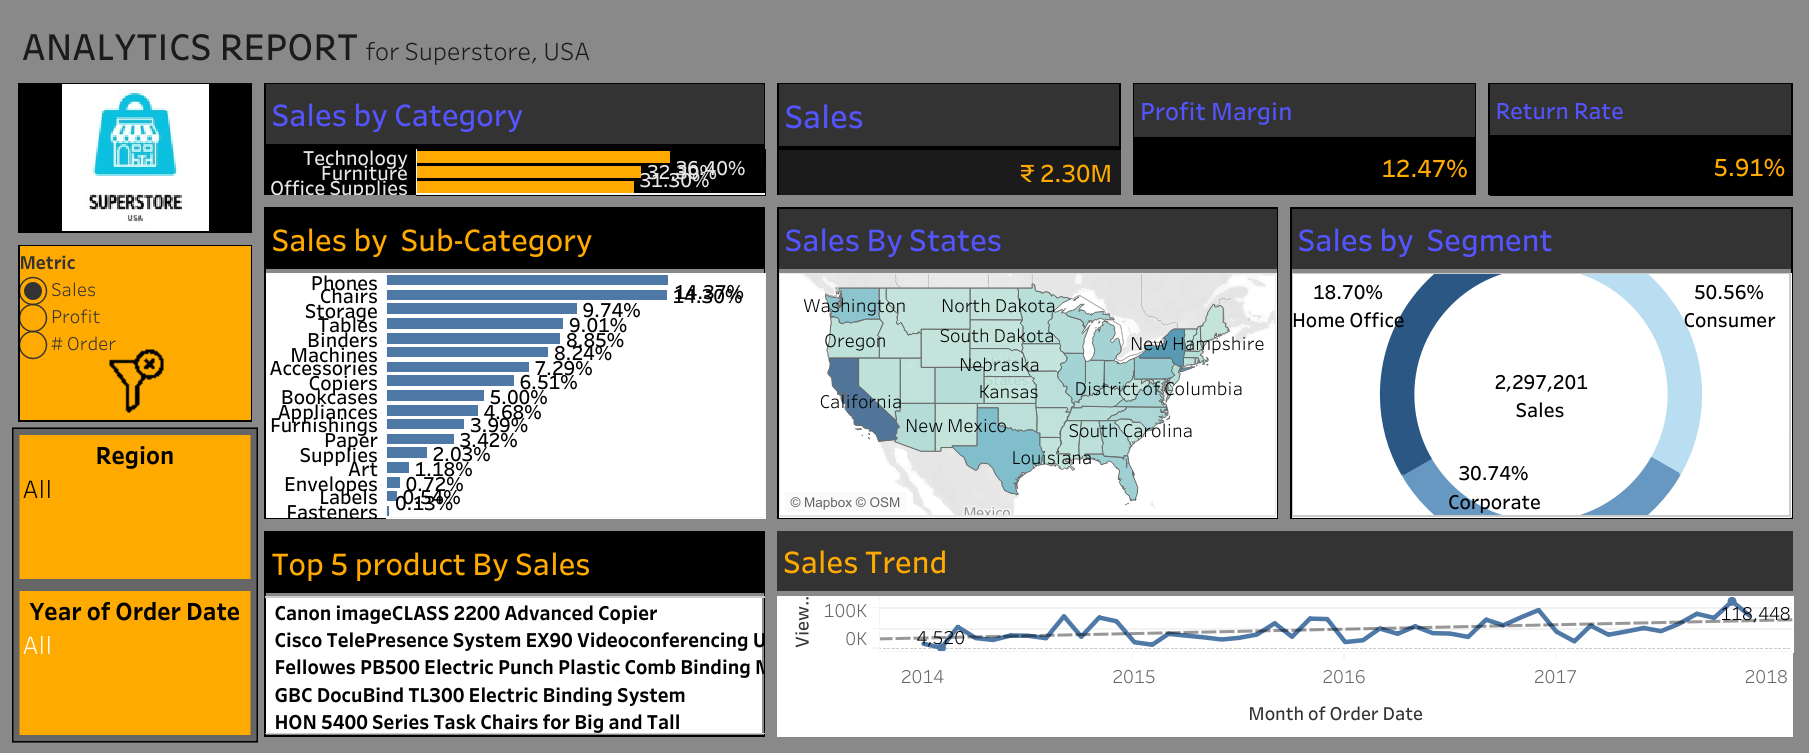

The page's visual inventory and layout, read from the dashboard file:
{"tool":"tableau","page":{"name":"Q7","canvas":[1000,1000],"units":"permille","ordinal":0},"visuals":[{"type":"title","box":[4.2,10.6,991.5,56.7]},{"type":"image","param":"Image/Picture1.jpg","box":[4.2,67.3,136.7,224.9]},{"type":"worksheet","title":"Category","mark":"Automatic","rows":["Category"],"cols":["Calculation_1036390931285385217"],"box":[141,67.3,284.2,171.5]},{"type":"worksheet","title":"Sales","mark":"Automatic","box":[425.2,67.3,197.4,171.5]},{"type":"worksheet","title":"Profit  margin","mark":"Automatic","box":[622.6,67.3,197.9,171.5]},{"type":"worksheet","title":"return rate","mark":"Automatic","box":[820.5,67.3,175.3,171.5]},{"type":"worksheet","title":"sub-Category","mark":"Automatic","rows":["Sub-Category"],"cols":["Calculation_1036390931285385217"],"box":[141,238.7,284.2,450.1]},{"type":"worksheet","title":"Map","mark":"Multipolygon","box":[425.2,238.7,284.7,450.1]},{"type":"worksheet","title":"pie","mark":"Pie","rows":["Calculation_1036390931302342661","Calculation_1036390931302621193"],"box":[709.9,238.7,285.9,450.1]},{"type":"parameter","param":"[Parameters].[Parameter 2]","box":[4.2,292.2,136.7,261]},{"type":"dashboard-object","box":[44.3,463.1,62.3,84.4]},{"type":"filter","title":"Sales","param":"[federated.0irx3r01rpcxtv1cjub4c0dmofwa].[none:Region:nk]","box":[4.8,554.5,135.7,263.4]},{"type":"worksheet","title":"top 5","mark":"Square","rows":["Product Name"],"box":[141,688.8,284.3,300.7]},{"type":"worksheet","title":"Trend","mark":"Automatic","rows":["Calculation_1036390931285385217"],"cols":["Order Date"],"box":[425.3,688.8,570.5,300.7]},{"type":"filter","title":"Sales","param":"[federated.0irx3r01rpcxtv1cjub4c0dmofwa].[yr:Order Date:ok]","box":[4.8,818,135.7,170.2]}]}

Visuals, with their boxes on the dashboard's canvas, which has no fixed pixel size, in thousandths of its width and height (x1, y1, x2, y2). These are canvas units, not pixel positions in the 1809x753 screenshot, which may show the page scaled, cropped or inside an application window:
title: <bbox>4, 11, 996, 67</bbox>
image: <bbox>4, 67, 141, 292</bbox>
"Category" worksheet: <bbox>141, 67, 425, 239</bbox>
"Sales" worksheet: <bbox>425, 67, 623, 239</bbox>
"Profit  margin" worksheet: <bbox>623, 67, 820, 239</bbox>
"return rate" worksheet: <bbox>820, 67, 996, 239</bbox>
"sub-Category" worksheet: <bbox>141, 239, 425, 689</bbox>
"Map" worksheet (Multipolygon marks): <bbox>425, 239, 710, 689</bbox>
"pie" worksheet (Pie marks): <bbox>710, 239, 996, 689</bbox>
parameter: <bbox>4, 292, 141, 553</bbox>
dashboard-object: <bbox>44, 463, 107, 548</bbox>
"Sales" filter: <bbox>5, 554, 140, 818</bbox>
"top 5" worksheet (Square marks): <bbox>141, 689, 425, 990</bbox>
"Trend" worksheet: <bbox>425, 689, 996, 990</bbox>
"Sales" filter: <bbox>5, 818, 140, 988</bbox>
